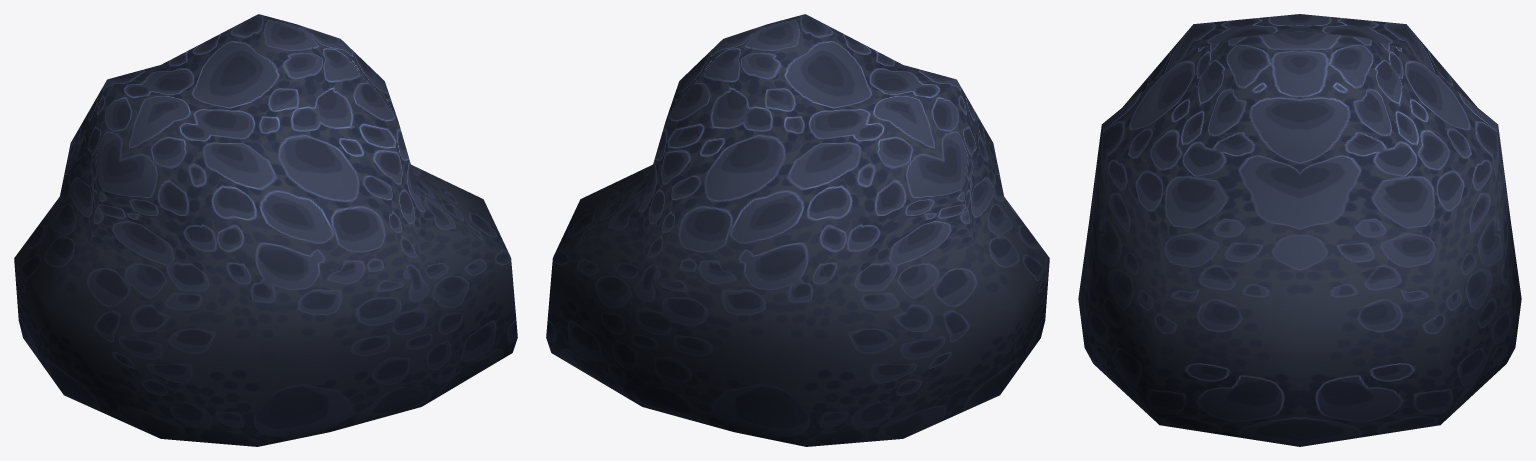
Rendered from Rock_02d.FBX.
The picture shows the model from 3 angles, left to right: view 1: azimuth 30°, elevation 25°; view 2: azimuth 150°, elevation 25°; view 3: azimuth 270°, elevation 25°; orthographic projection. The views are drawn at different scales.
Parts seen in each view (by area): view 1: Rock_02d; view 2: Rock_02d; view 3: Rock_02d.
Part boxes in pixels (box(x1,y1,x2,y2)): Rock_02d: box(14, 14, 517, 446); Rock_02d: box(546, 14, 1049, 446); Rock_02d: box(1078, 14, 1521, 446).
Size of the model in its own units: 215 by 144 by 182.
